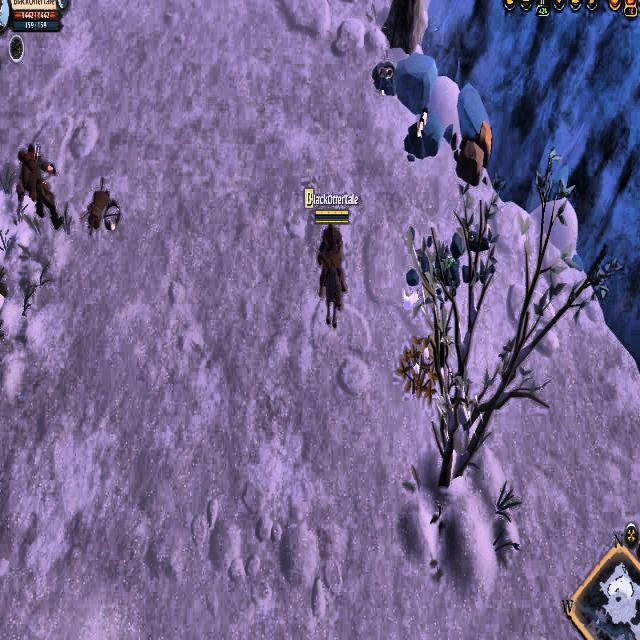copperore: (406, 103, 439, 156)
limestone: (452, 122, 495, 182)
